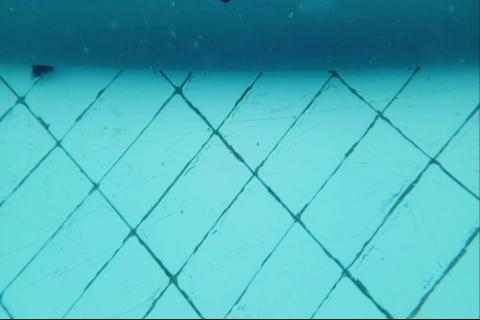kebocoran: (219, 0, 231, 4)
